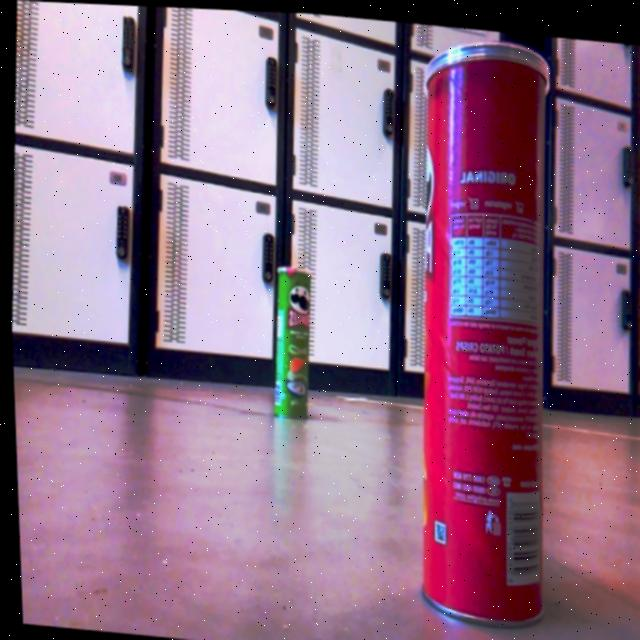greenpringles: (248, 258, 330, 432)
redpringles: (355, 15, 588, 640)
